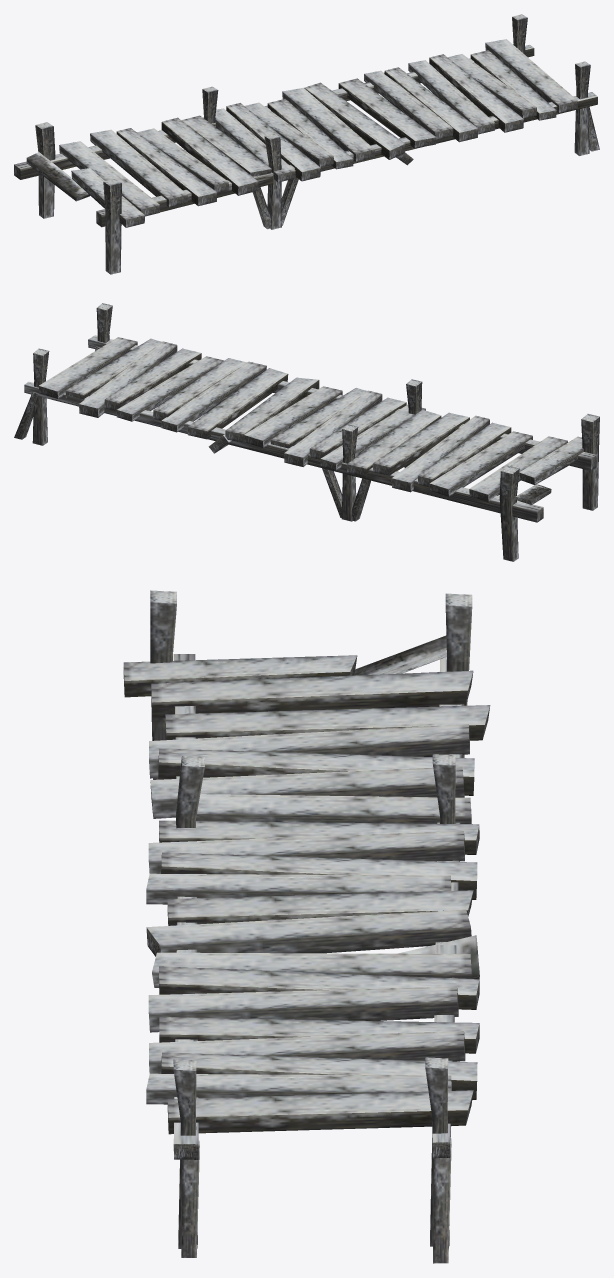
The model's file is S_Build_Snowland080.FBX.
3 renders of one model, top to bottom at view 1: azimuth 30°, elevation 25°; view 2: azimuth 150°, elevation 25°; view 3: azimuth 270°, elevation 25°, orthographic. The views are drawn at different scales.
Visible parts, largest first — view 1: S_Build_Snowland080; view 2: S_Build_Snowland080; view 3: S_Build_Snowland080.
Boxes of the visible parts, box(x1,y1,x2,y2) form: S_Build_Snowland080: box(14, 14, 599, 274); S_Build_Snowland080: box(14, 303, 599, 561); S_Build_Snowland080: box(123, 590, 490, 1263).
Bounding box in the file's own units: 1370 × 416 × 233.
